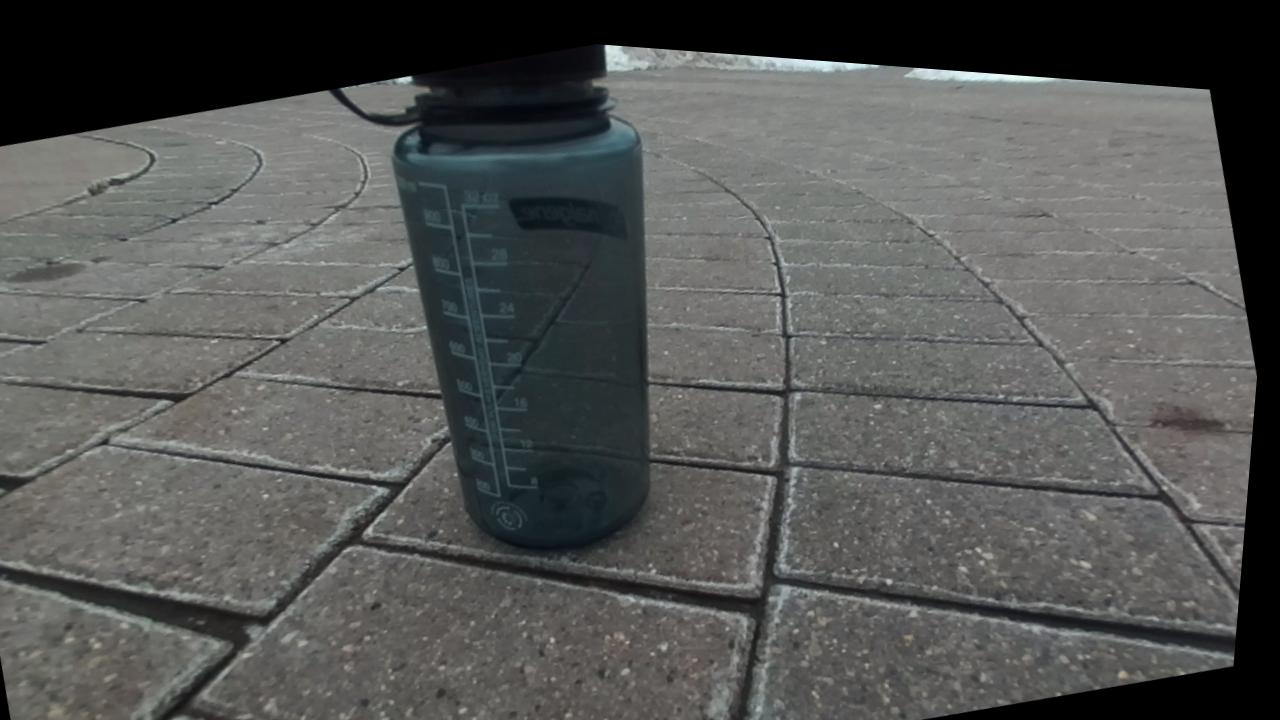bottle: (328, 44, 649, 548)
